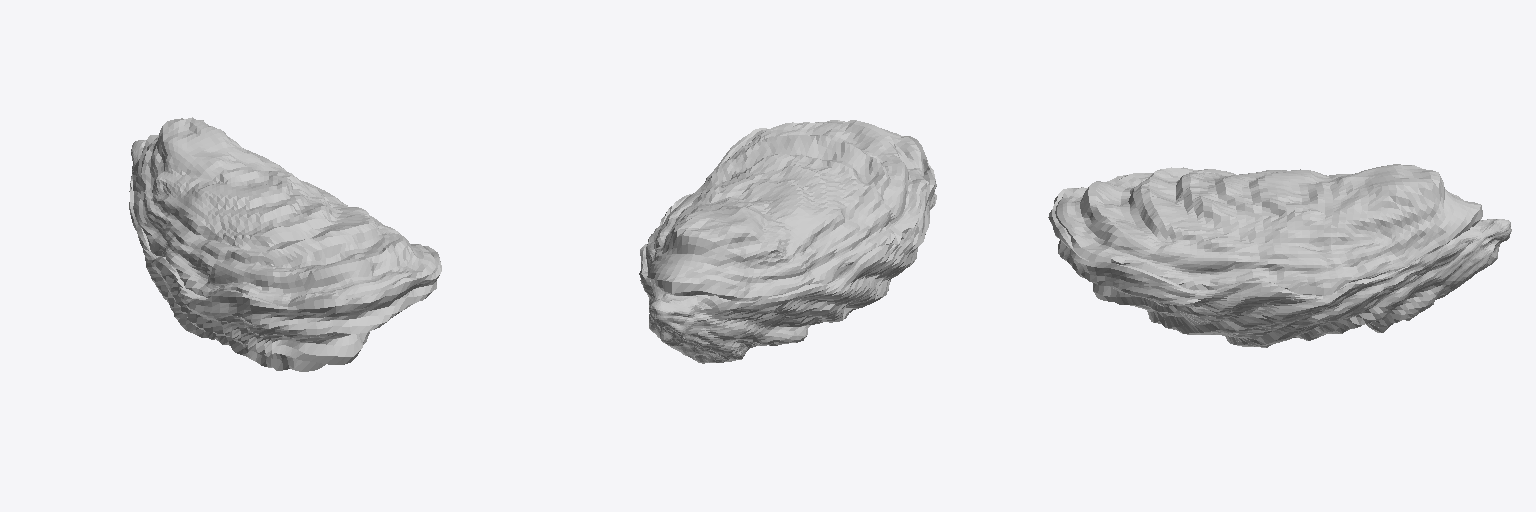
Rendered from oyster.obj.
3 views of the same model, side by side, from view 1: azimuth 30°, elevation 25°; view 2: azimuth 150°, elevation 25°; view 3: azimuth 270°, elevation 25° (orthographic).
Parts seen in each view (by area): view 1: RL_Oyster_Large_lod2_0001; view 2: RL_Oyster_Large_lod2_0001; view 3: RL_Oyster_Large_lod2_0001.
Boxes of the visible parts, box(x1,y1,x2,y2) form: RL_Oyster_Large_lod2_0001: box(129, 117, 441, 371); RL_Oyster_Large_lod2_0001: box(639, 120, 936, 363); RL_Oyster_Large_lod2_0001: box(1048, 164, 1511, 347).
Size of the model in its own units: 7.82 by 5.52 by 14.37.